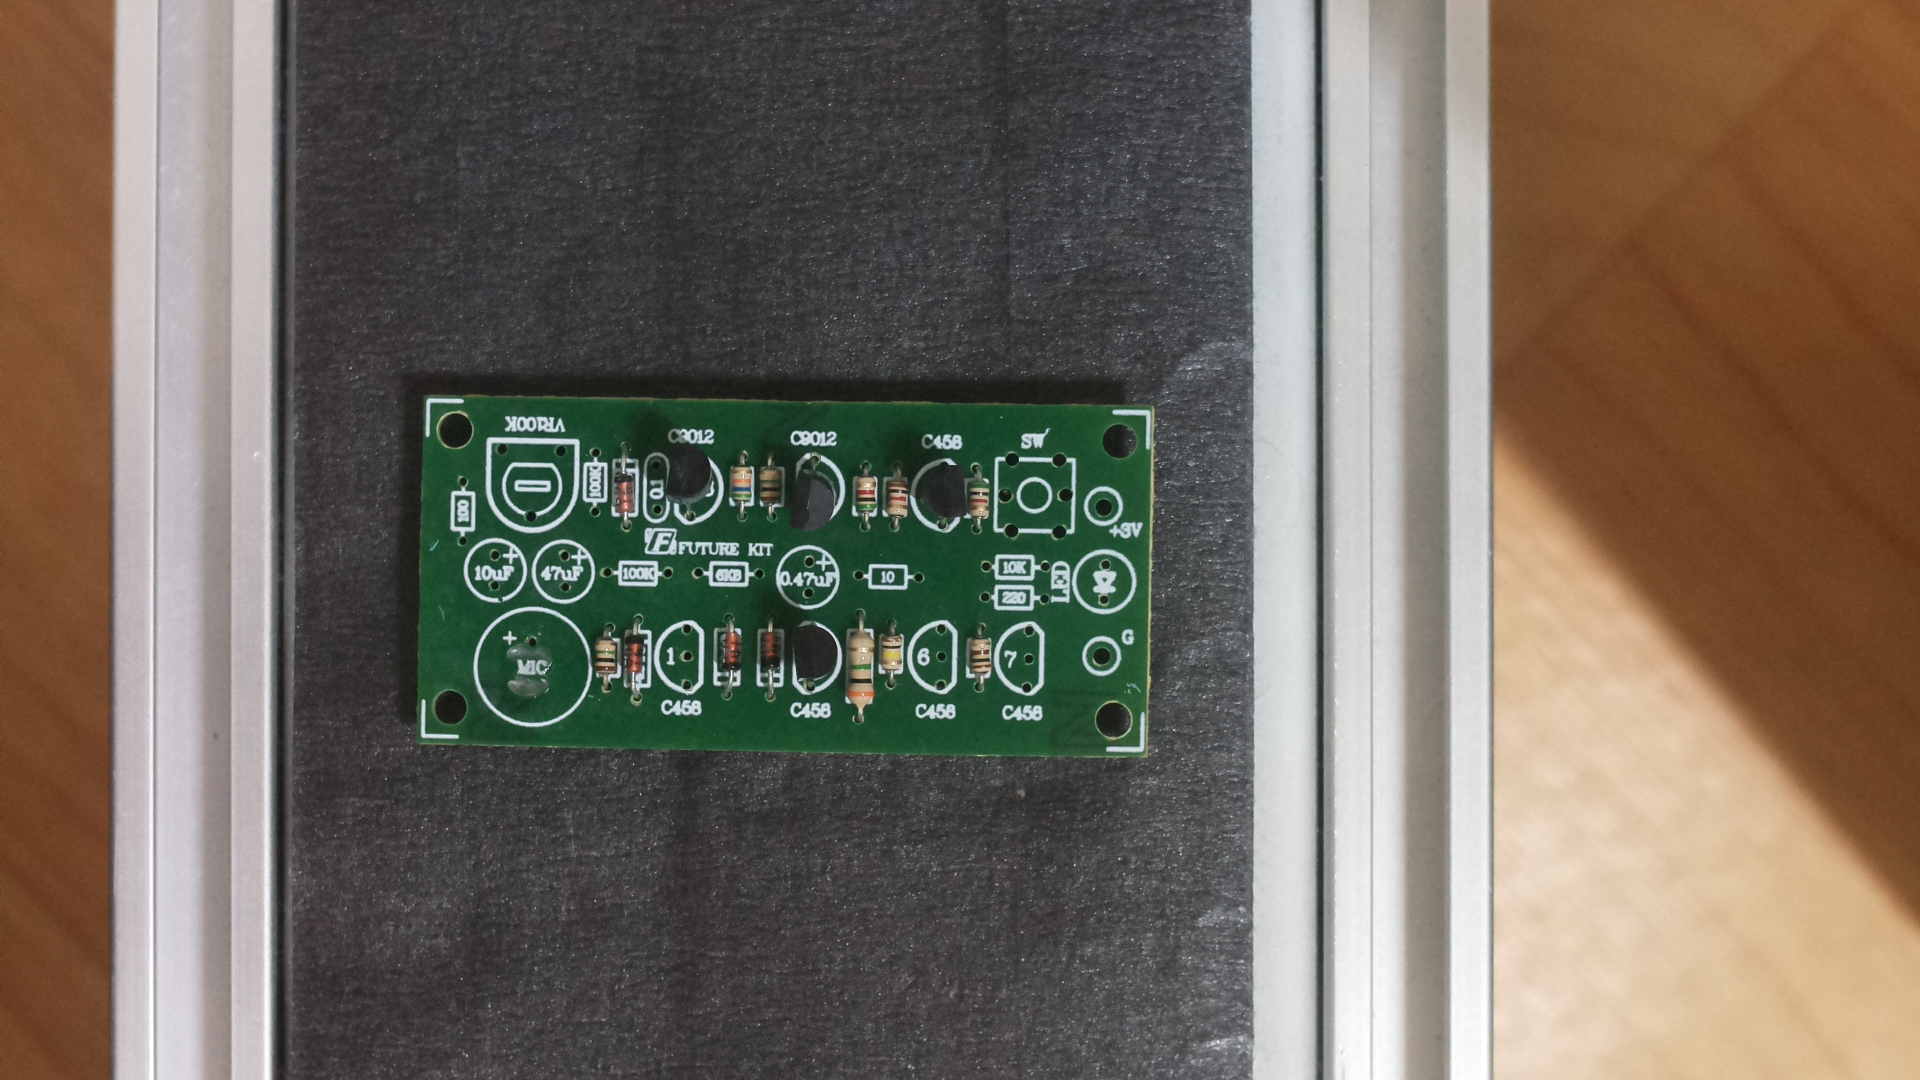A_Missing_part: (405, 378, 1175, 796)
